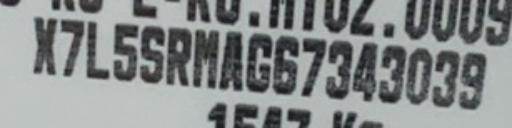letter: (428, 42, 460, 109), (455, 47, 491, 106), (372, 41, 406, 103), (135, 18, 165, 87), (160, 23, 194, 83), (191, 25, 221, 92), (400, 43, 432, 105), (110, 17, 140, 82), (214, 28, 246, 88), (270, 31, 302, 91), (323, 36, 353, 100), (245, 28, 273, 93), (352, 37, 380, 102), (58, 14, 86, 76), (88, 17, 114, 82), (30, 12, 56, 76), (300, 32, 322, 99)
